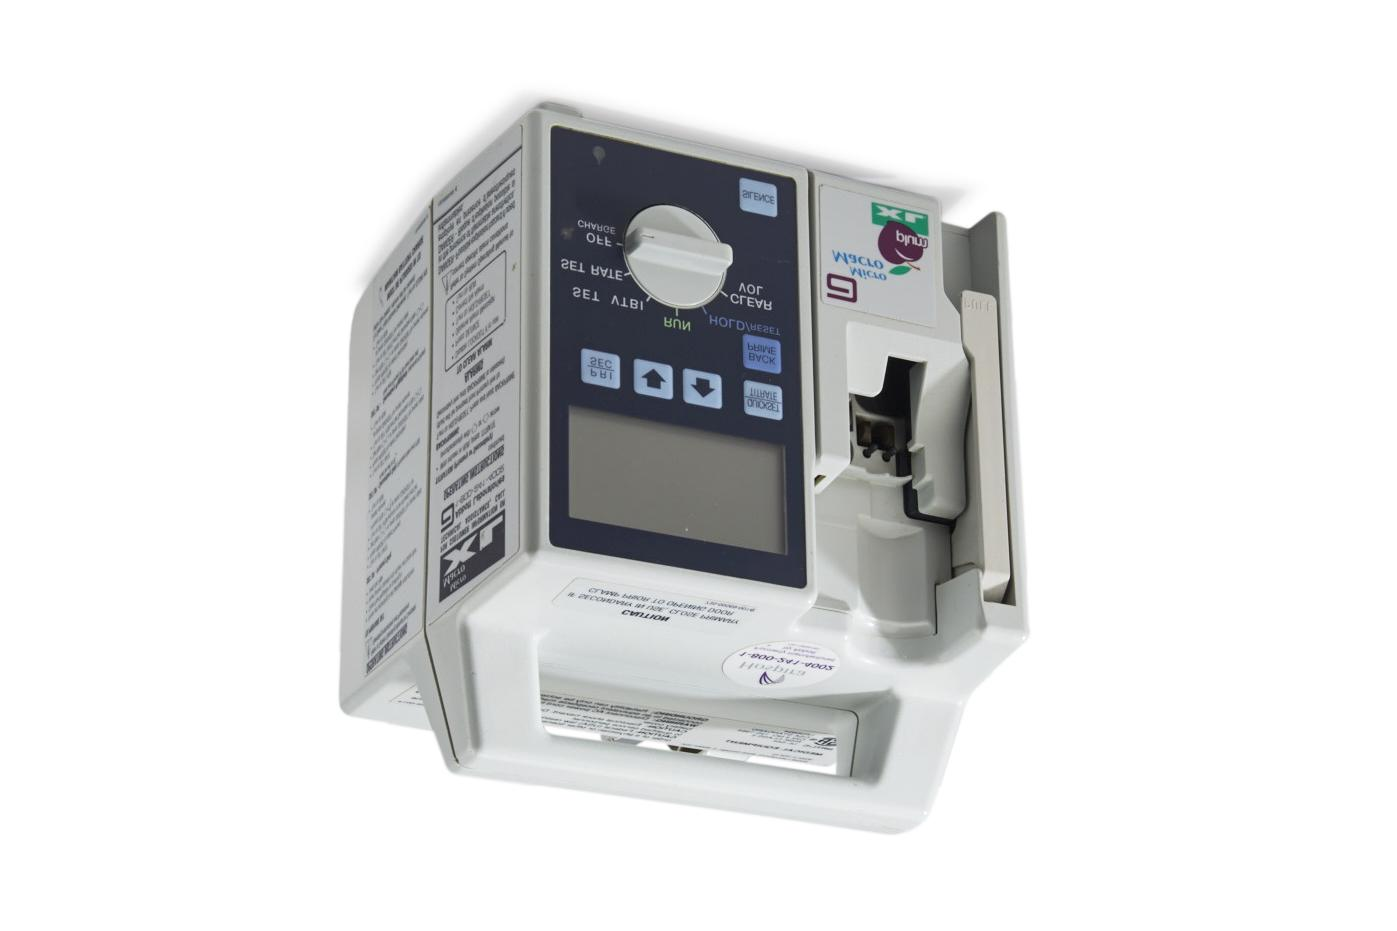plumxl1: (340, 86, 1054, 840)
